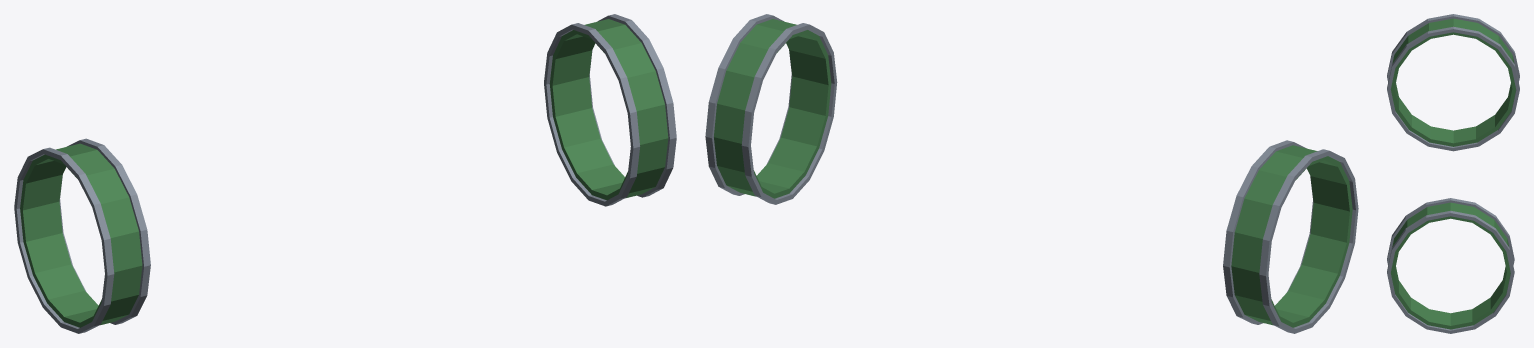
File: armor_lord_arms_uncommon_human.glb
The picture shows the model from 3 angles, left to right: view 1: azimuth 30°, elevation 25°; view 2: azimuth 150°, elevation 25°; view 3: azimuth 270°, elevation 25°; orthographic projection. The views are drawn at different scales.
Visible parts, largest first — view 1: armor_lord_arms_uncommon_human__lowerarm_r, armor_lord_arms_uncommon_human__lowerarm_l; view 2: armor_lord_arms_uncommon_human__lowerarm_r, armor_lord_arms_uncommon_human__lowerarm_l; view 3: armor_lord_arms_uncommon_human__lowerarm_r, armor_lord_arms_uncommon_human__lowerarm_l.
Part boxes in pixels (x1,y1,x2,y2): armor_lord_arms_uncommon_human__lowerarm_r: (14,138,150,333); armor_lord_arms_uncommon_human__lowerarm_l: (544,14,676,206); armor_lord_arms_uncommon_human__lowerarm_r: (1223,140,1358,333); armor_lord_arms_uncommon_human__lowerarm_l: (705,14,837,204); armor_lord_arms_uncommon_human__lowerarm_r: (1387,14,1519,151); armor_lord_arms_uncommon_human__lowerarm_l: (1387,198,1514,333).
Bounding box in the file's own units: 118 × 33.89 × 33.4.
